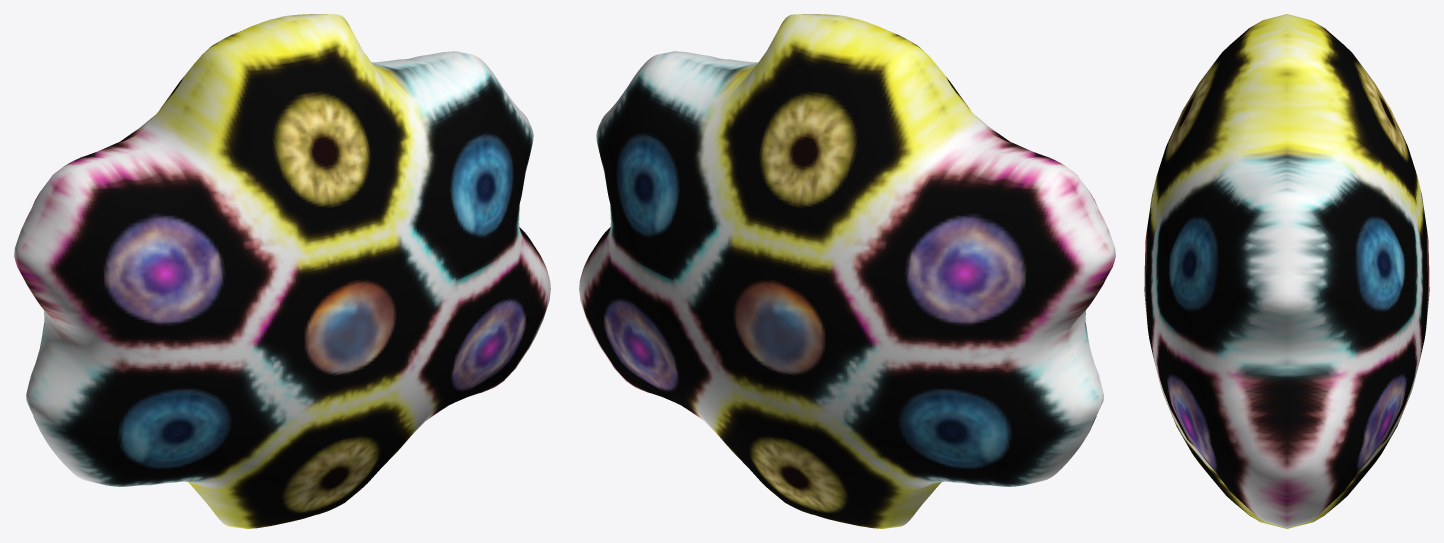
File: neoneyes.glb
3 views of the same model, side by side, from view 1: azimuth 30°, elevation 25°; view 2: azimuth 150°, elevation 25°; view 3: azimuth 270°, elevation 25° (orthographic). The views are drawn at different scales.
Visible parts, largest first — view 1: Mesh_0.007; view 2: Mesh_0.007; view 3: Mesh_0.007.
Boxes of the visible parts, x1,y1,x2,y2 form: Mesh_0.007: (14, 14, 550, 528); Mesh_0.007: (579, 14, 1115, 528); Mesh_0.007: (1144, 14, 1429, 528).
Bounding box in the file's own units: 200 × 178 × 95.5.
Materials: 1 (1 with a texture image).
